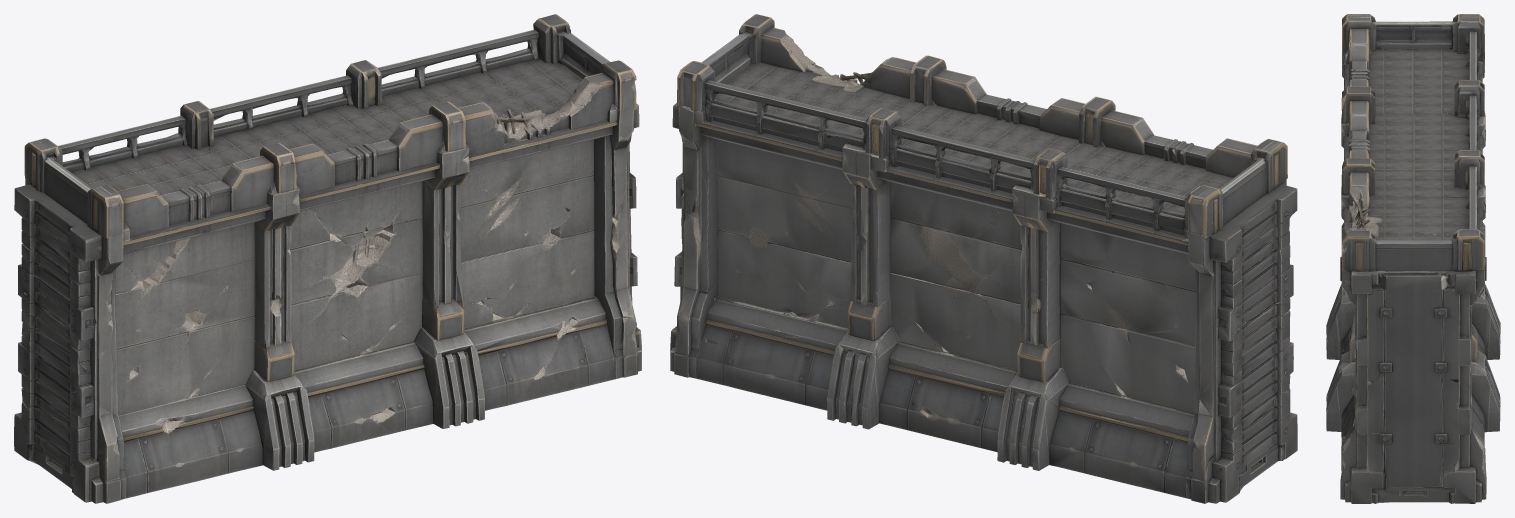
File: imperial_city_wall_straight_damaged.glb
3 views of the same model, side by side, from view 1: azimuth 30°, elevation 25°; view 2: azimuth 150°, elevation 25°; view 3: azimuth 270°, elevation 25° (orthographic). The views are drawn at different scales.
Parts seen in each view (by area): view 1: mesh_node; view 2: mesh_node; view 3: mesh_node.
Part boxes in pixels (box(x1,y1,x2,y2)): mesh_node: box(14, 14, 641, 503); mesh_node: box(670, 14, 1297, 503); mesh_node: box(1326, 14, 1500, 503).
Bounding box in the file's own units: 11.9 × 6.16 × 3.71.
1 material, 1 textured.
